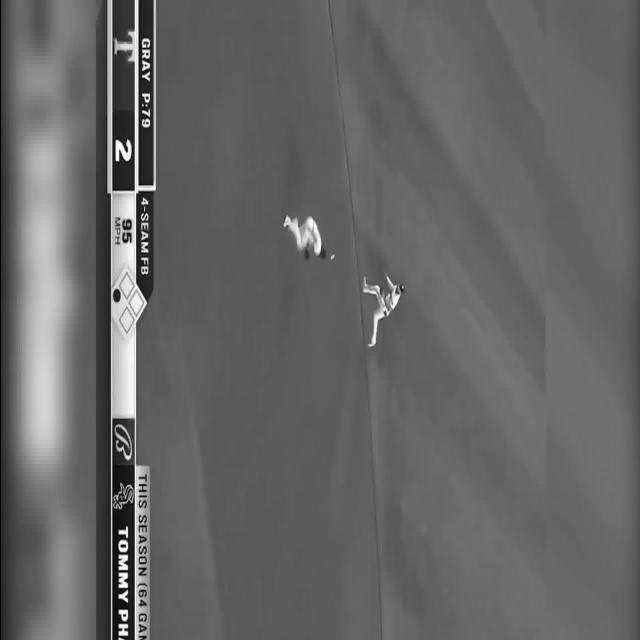baseball: (329, 252, 334, 260)
shoe: (282, 215, 290, 227), (320, 247, 326, 259), (362, 276, 366, 292), (367, 340, 375, 347)
